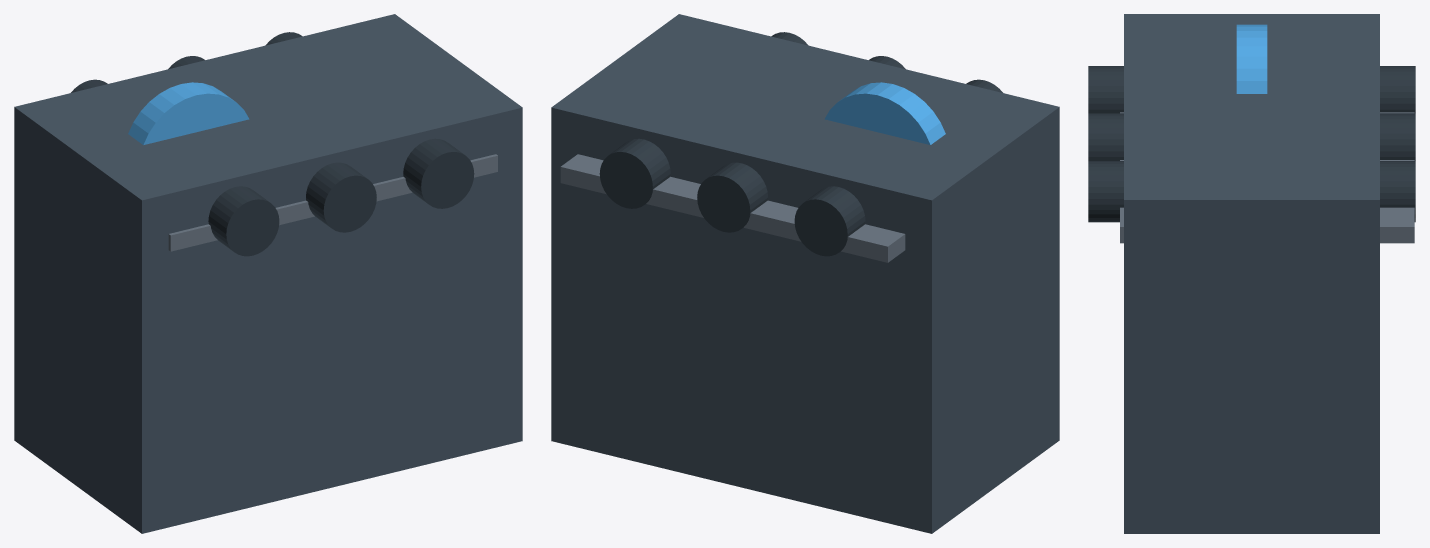
The model's file is thermal_relay.glb.
The picture shows the model from 3 angles, left to right: view 1: azimuth 30°, elevation 25°; view 2: azimuth 150°, elevation 25°; view 3: azimuth 270°, elevation 25°; orthographic projection.
Visible parts, largest first — view 1: thermal_relay_0, thermal_relay_9, thermal_relay_3, thermal_relay_5, thermal_relay_7, thermal_relay_1; view 2: thermal_relay_0, thermal_relay_1, thermal_relay_9, thermal_relay_4, thermal_relay_6, thermal_relay_8; view 3: thermal_relay_0, thermal_relay_9, thermal_relay_7, thermal_relay_3, thermal_relay_5, thermal_relay_8, thermal_relay_6, thermal_relay_4, thermal_relay_1.
Boxes of the visible parts, x1,y1,x2,y2 form: thermal_relay_0: [14, 14, 522, 533]; thermal_relay_9: [128, 82, 249, 144]; thermal_relay_3: [208, 186, 279, 256]; thermal_relay_5: [306, 162, 376, 232]; thermal_relay_7: [403, 138, 474, 208]; thermal_relay_1: [168, 154, 497, 251]; thermal_relay_0: [551, 14, 1059, 533]; thermal_relay_1: [560, 154, 905, 262]; thermal_relay_9: [824, 82, 945, 144]; thermal_relay_4: [794, 186, 865, 256]; thermal_relay_6: [697, 162, 767, 232]; thermal_relay_8: [599, 138, 670, 208]; thermal_relay_0: [1124, 14, 1379, 533]; thermal_relay_9: [1236, 24, 1267, 93]; thermal_relay_7: [1088, 161, 1123, 222]; thermal_relay_3: [1088, 66, 1123, 113]; thermal_relay_5: [1088, 113, 1123, 160]; thermal_relay_8: [1380, 161, 1415, 222]; thermal_relay_6: [1380, 113, 1415, 160]; thermal_relay_4: [1380, 66, 1415, 113]; thermal_relay_1: [1120, 112, 1414, 243].
Size of the model in its own units: 0.86 by 0.8 by 0.64.
